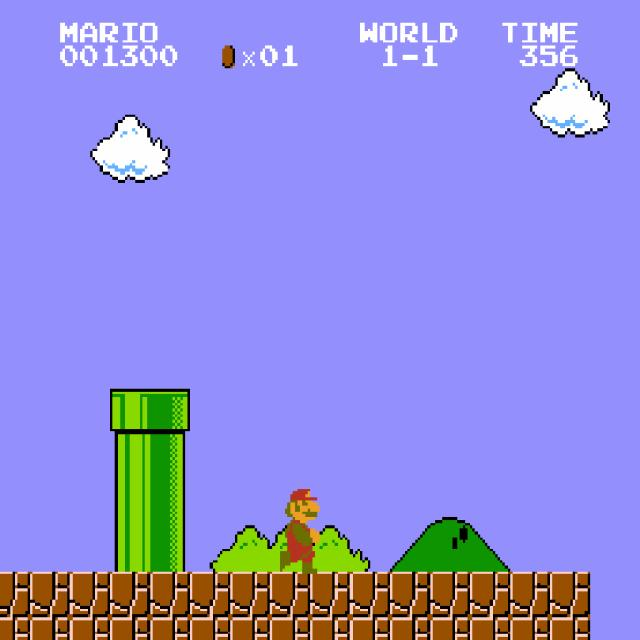big_mario: (277, 480, 320, 574)
pipe: (110, 434, 150, 480), (110, 480, 150, 526), (150, 434, 190, 480), (150, 480, 190, 526), (110, 526, 150, 571), (150, 526, 190, 571)
pipe_head: (110, 389, 150, 434), (150, 389, 190, 434)
undestructible_block: (30, 572, 70, 617), (70, 572, 110, 617), (110, 572, 150, 617), (150, 572, 190, 617), (190, 572, 230, 617), (230, 572, 270, 617), (270, 572, 310, 617), (310, 572, 350, 617), (350, 572, 390, 617), (390, 572, 430, 617), (430, 572, 470, 617), (470, 572, 510, 617), (510, 572, 550, 617), (550, 572, 590, 617), (0, 572, 30, 617), (30, 617, 70, 640), (70, 617, 110, 640), (110, 617, 150, 640), (150, 617, 190, 640), (190, 617, 230, 640), (230, 617, 270, 640), (270, 617, 310, 640), (310, 617, 350, 640), (350, 617, 390, 640), (390, 617, 430, 640), (430, 617, 470, 640), (470, 617, 510, 640), (510, 617, 550, 640), (550, 617, 590, 640), (0, 617, 30, 640)
